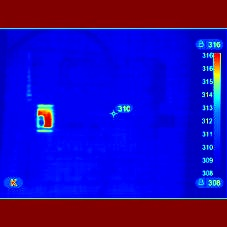Less: (37, 116, 44, 126)
